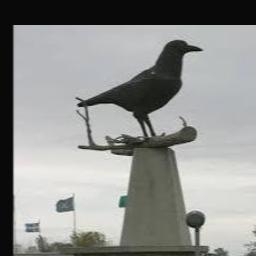Crow: (76, 39, 203, 143)
